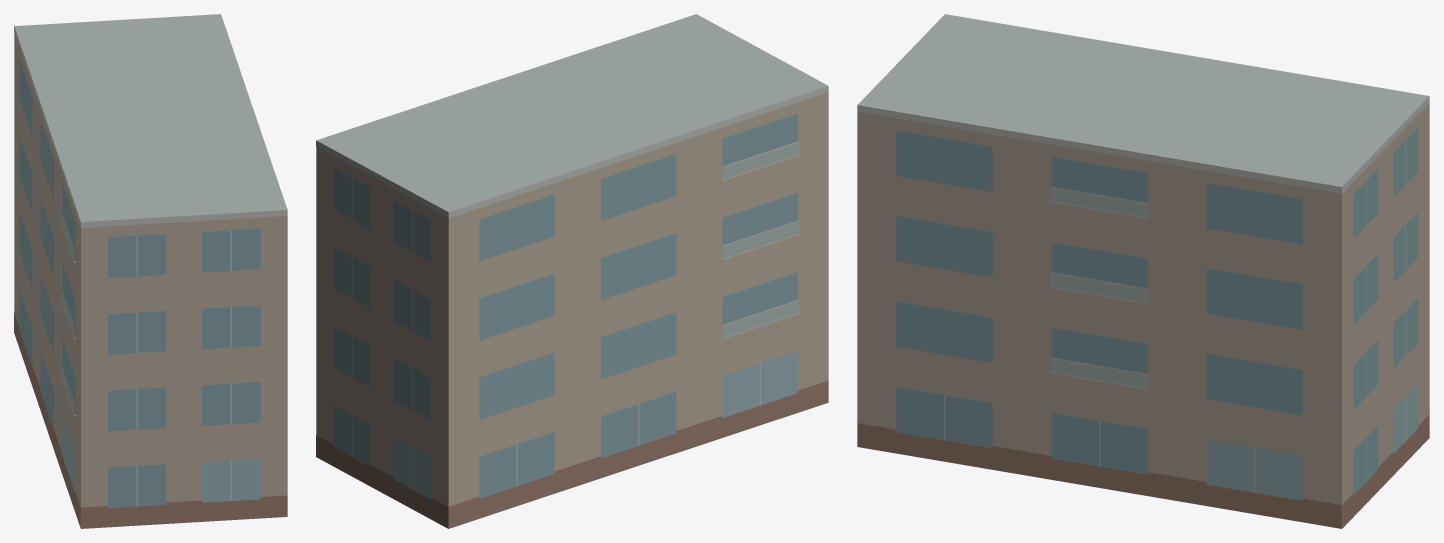
The model's file is survey-upis-32662721.glb.
3 renders of one model, left to right at view 1: azimuth 30°, elevation 25°; view 2: azimuth 150°, elevation 25°; view 3: azimuth 270°, elevation 25°, orthographic. The views are drawn at different scales.
Visible parts, largest first — view 1: survey-upis-32662721.tmp; view 2: survey-upis-32662721.tmp; view 3: survey-upis-32662721.tmp.
Part boxes in pixels (x1,y1,x2,y2): survey-upis-32662721.tmp: (14, 14, 287, 528); survey-upis-32662721.tmp: (316, 14, 828, 528); survey-upis-32662721.tmp: (857, 14, 1429, 528).
Size of the model in its own units: 13.74 by 12.65 by 19.2.
